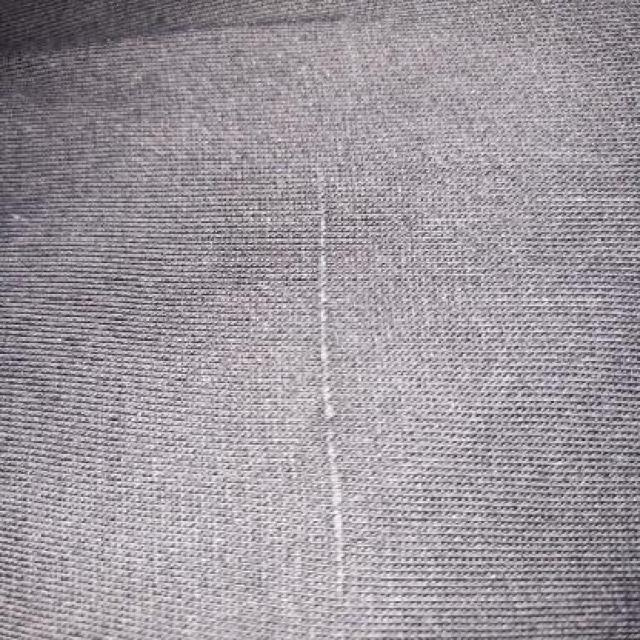stains: (250, 136, 408, 618)
